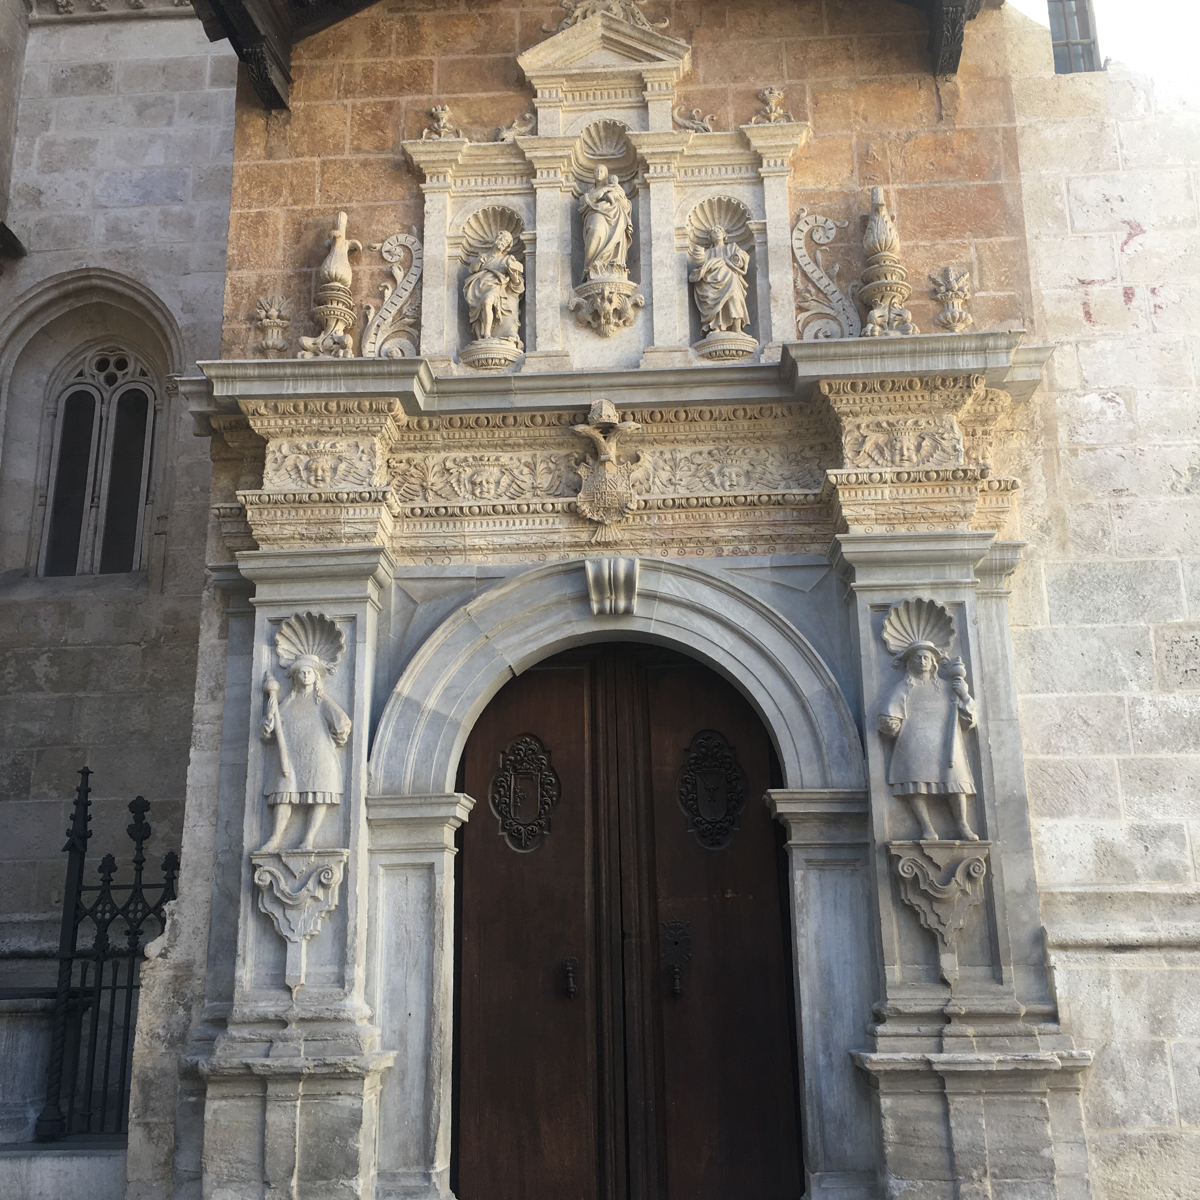arco-apuntado: (5, 276, 173, 404)
arco-medio-punto: (425, 608, 808, 852)
fronton: (512, 7, 685, 80)
